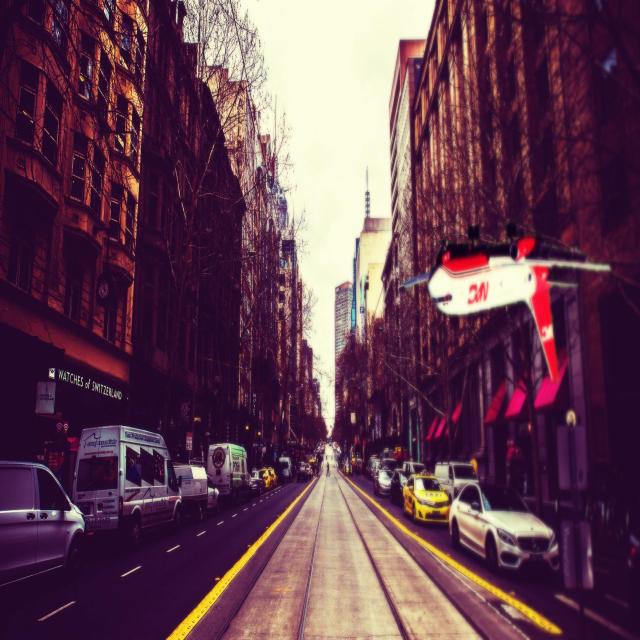airplane: (398, 244, 611, 385)
